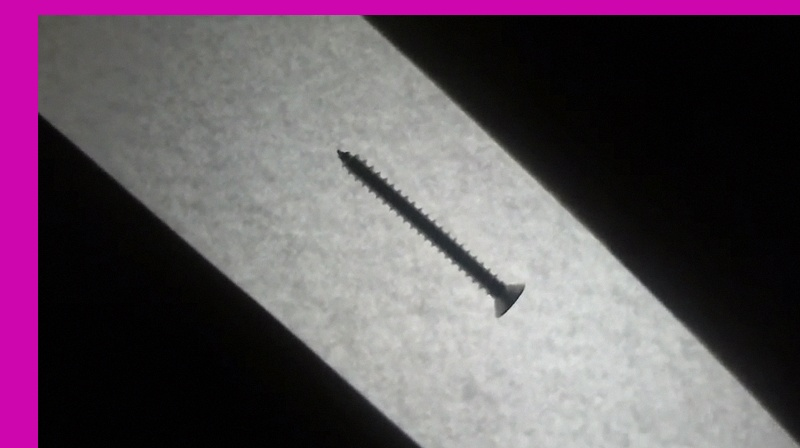S002: (335, 144, 531, 318)
